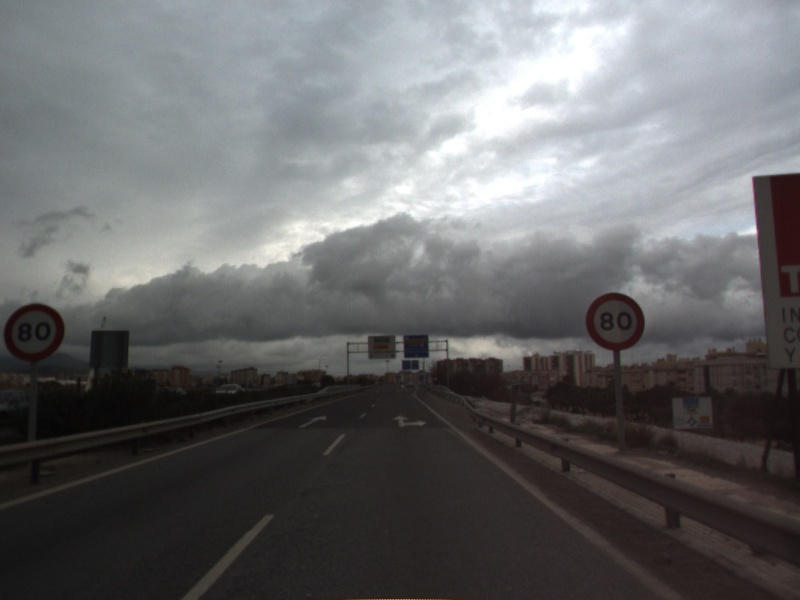STRAIGHT: (296, 413, 328, 430)
STRAIGHT_RIGHT: (390, 413, 429, 430)
